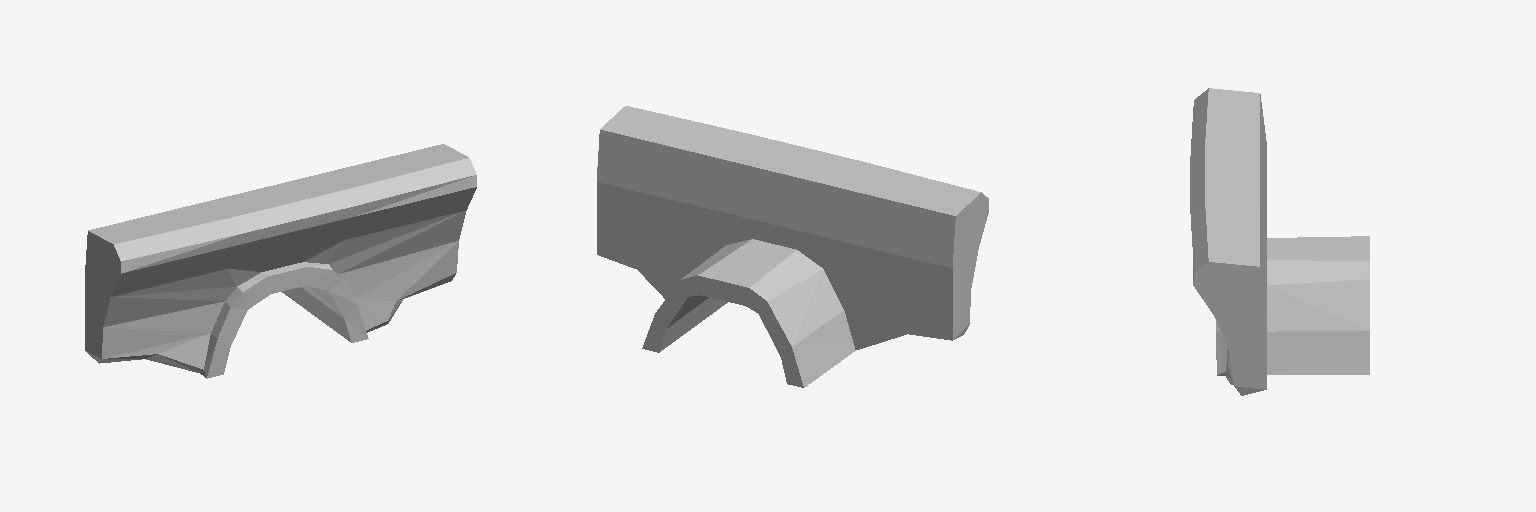
Rendered from wall_up4.obj.
3 views of the same model, side by side, from view 1: azimuth 30°, elevation 25°; view 2: azimuth 150°, elevation 25°; view 3: azimuth 270°, elevation 25° (orthographic).
Parts seen in each view (by area): view 1: wall_up4; view 2: wall_up4; view 3: wall_up4.
Part boxes in pixels (x1,y1,x2,y2): wall_up4: (85,144,476,378); wall_up4: (597,106,988,387); wall_up4: (1190,88,1369,395).
Bounding box in the file's own units: 8 × 3.48 × 3.49.